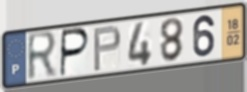4: (126, 20, 154, 68)
6: (192, 13, 218, 59)
8: (159, 17, 186, 64)
P: (58, 26, 91, 79), (92, 23, 123, 73)
R: (26, 29, 60, 84)
